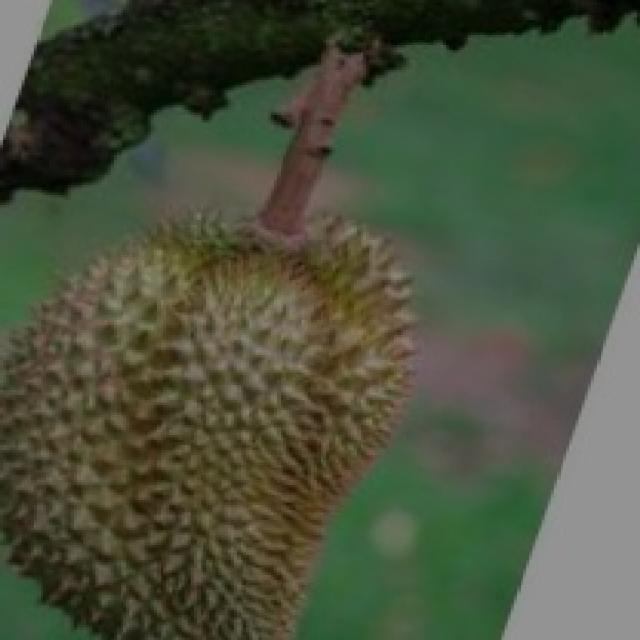fruit: (3, 285, 388, 640)
